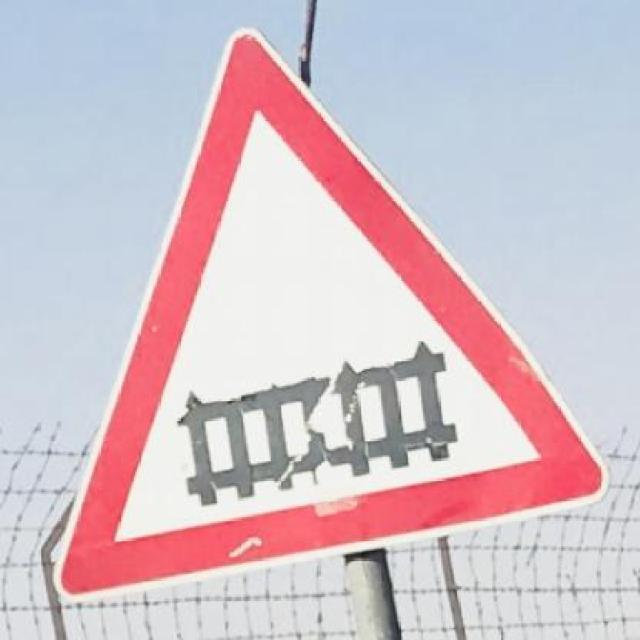guarded level crossing: (36, 18, 619, 613)
